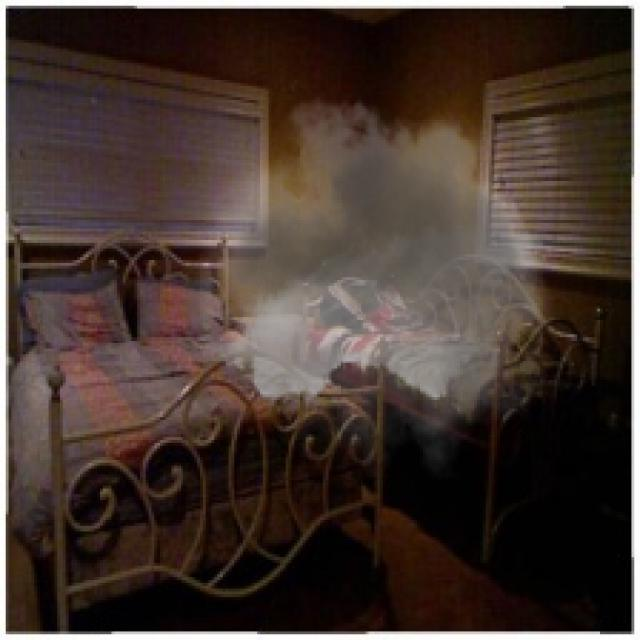Smoke: (197, 80, 566, 480)
